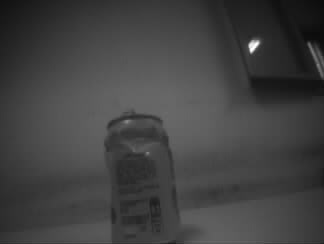Tin can: (103, 107, 184, 244)
